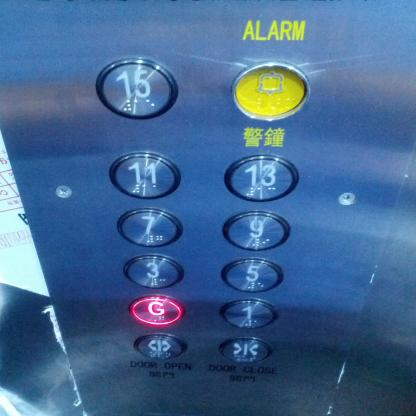1: (218, 297, 278, 329)
11: (108, 149, 181, 202)
13: (224, 152, 300, 202)
15: (95, 56, 179, 122)
3: (122, 252, 185, 291)
5: (218, 256, 284, 294)
7: (116, 207, 182, 249)
9: (220, 210, 290, 250)
G: (127, 293, 186, 328)
alarm: (230, 58, 312, 125)
close: (218, 336, 274, 364)
open: (133, 331, 188, 361)
